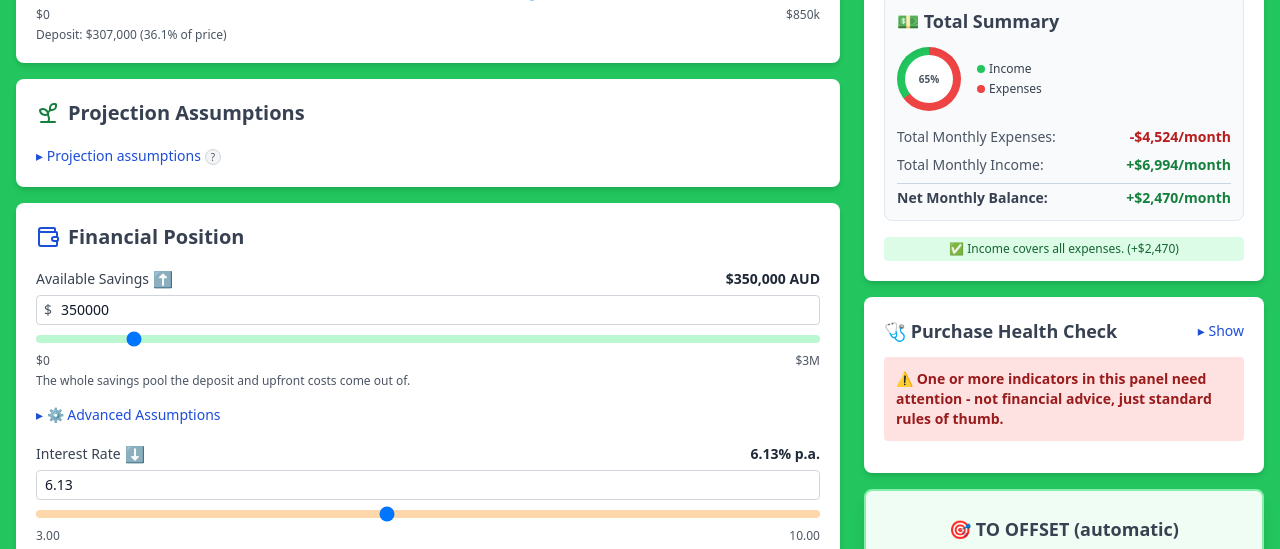
Test case: Rental Yield with rental income scheduled to start after month 1 (TODO-158) › shows the indicator rather than telling the user to add income they already added
(page scrolled)
Click the button "▸ Show" at (1221, 331), box [1198, 321, 1244, 341]
(page scrolled)
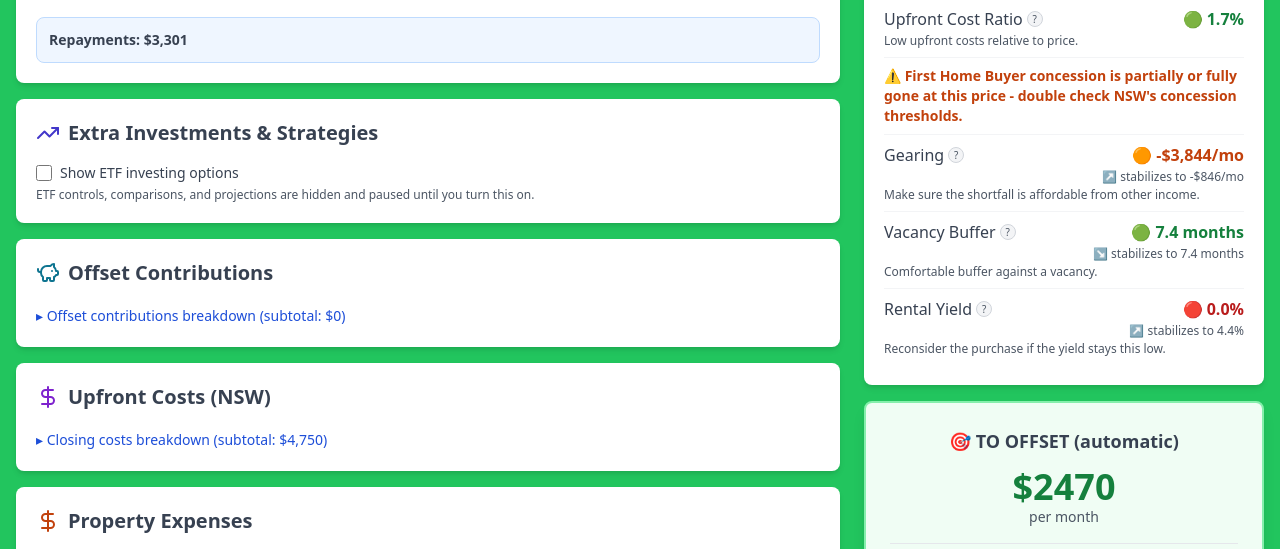
expect the text "↗ stabilizes to 4.4%" is shown: met, box [1130, 322, 1244, 339]
